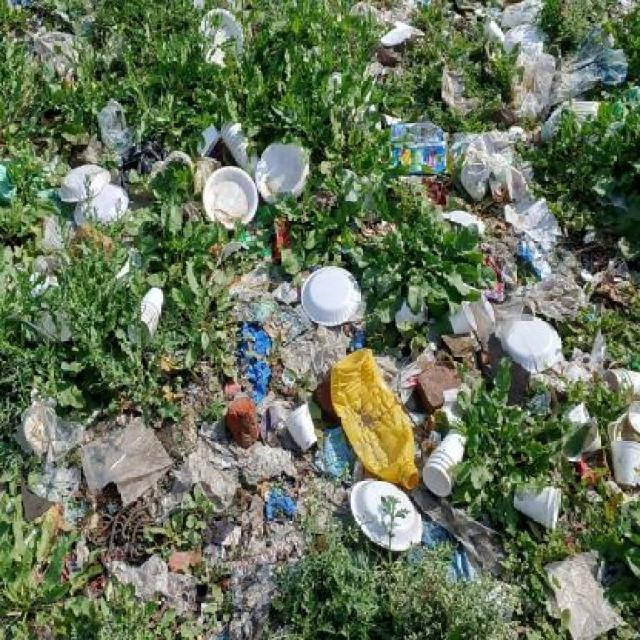garbage: (86, 395, 319, 520), (329, 340, 424, 550), (493, 9, 632, 119), (99, 531, 290, 604), (500, 202, 576, 383), (194, 125, 310, 238), (339, 3, 504, 82), (391, 122, 524, 202), (11, 393, 88, 516), (540, 539, 628, 640), (451, 303, 576, 370), (239, 314, 336, 393), (51, 141, 136, 224), (531, 382, 608, 464), (303, 265, 372, 328), (25, 25, 92, 88), (229, 255, 302, 310), (417, 429, 464, 502), (606, 396, 640, 495), (197, 3, 246, 68), (517, 482, 566, 531), (126, 285, 164, 348), (97, 91, 136, 144)
